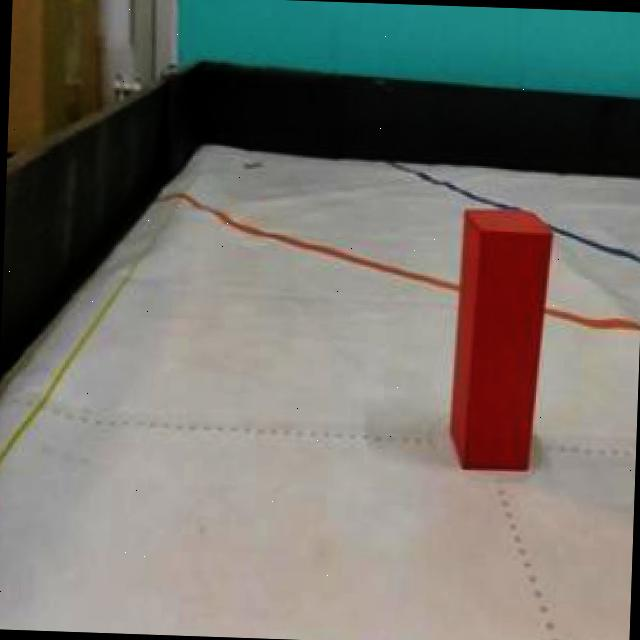redbox: (452, 201, 552, 470)
